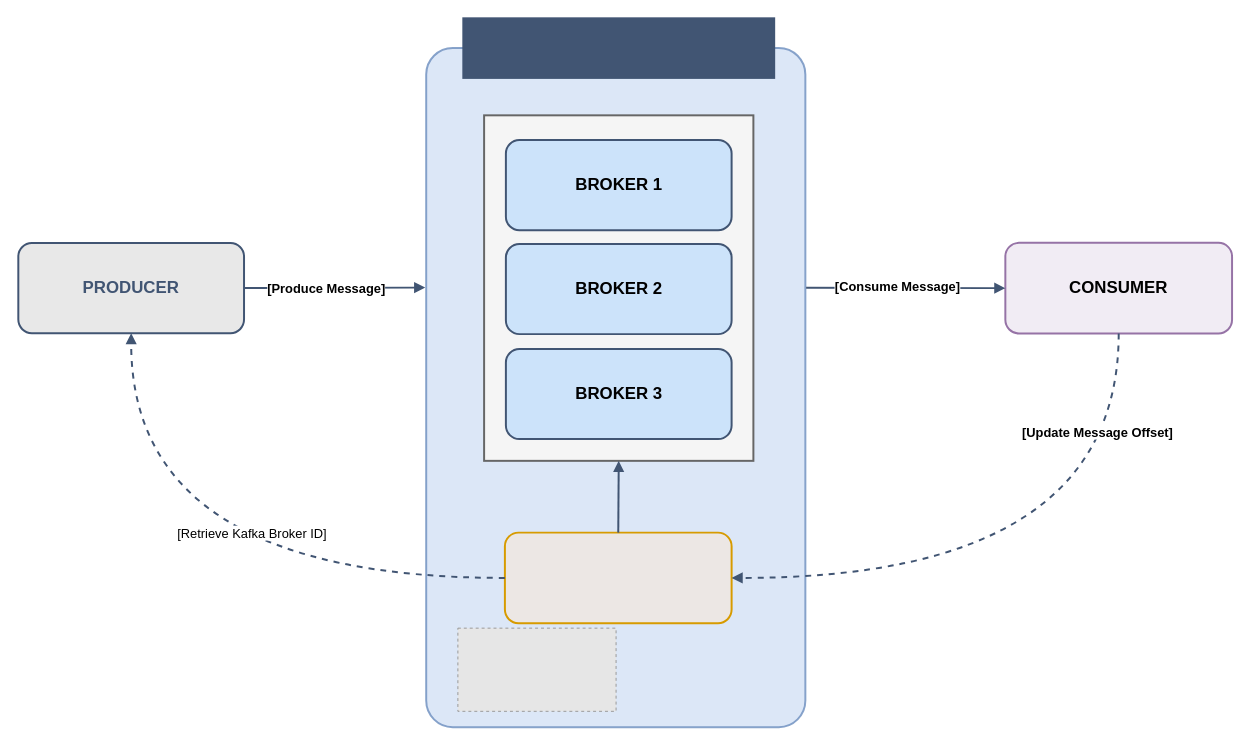
The diagram is 1249 pixels wide and 744 high, and some of its shapes have lost their labels. Grey dashed boxes stand in for pictures. Here are the shapes that lost their labels. From the top down, the box of each, then its label:
(462, 17, 775, 78): KAFKA CLUSTER
(503, 531, 732, 624): APACHE ZOOKEEPER
